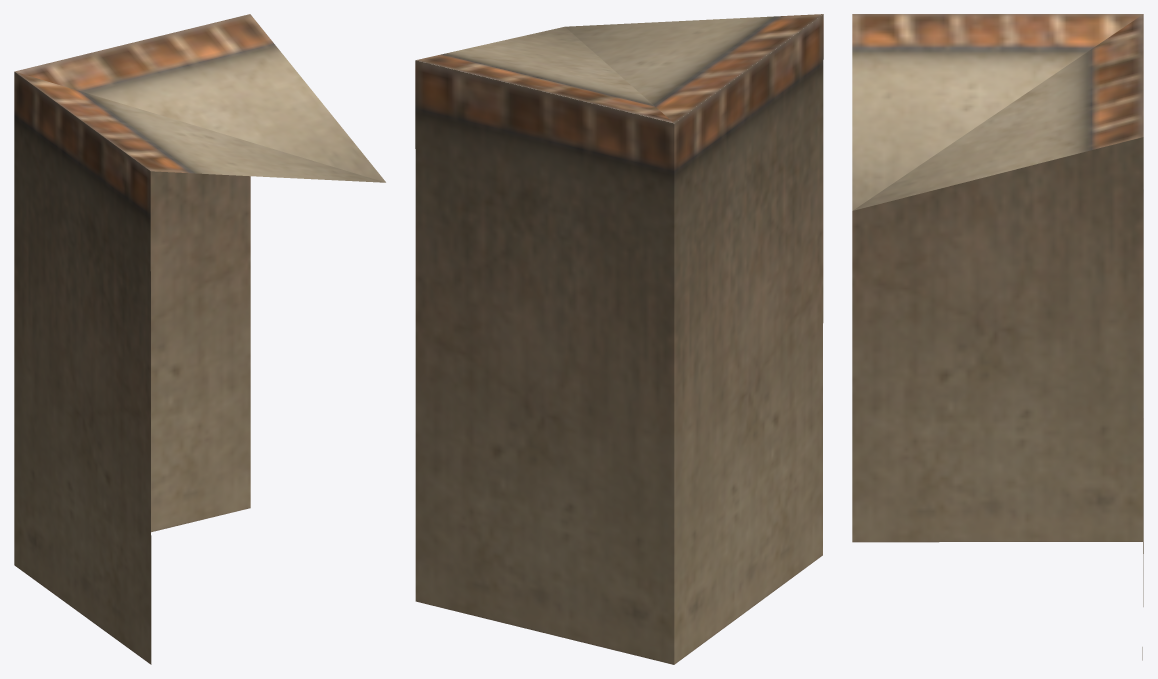
The model's file is sink_outtercorner.glb.
3 renders of one model, left to right at view 1: azimuth 30°, elevation 25°; view 2: azimuth 150°, elevation 25°; view 3: azimuth 270°, elevation 25°, orthographic. The views are drawn at different scales.
Parts seen in each view (by area): view 1: SmallSunkenTurnOut_90; view 2: SmallSunkenTurnOut_90; view 3: SmallSunkenTurnOut_90.
Part boxes in pixels (left/top/right/bottom): SmallSunkenTurnOut_90: left=14, top=14, right=385, bottom=664; SmallSunkenTurnOut_90: left=415, top=14, right=823, bottom=664; SmallSunkenTurnOut_90: left=852, top=14, right=1143, bottom=660.
Bounding box in the file's own units: 2.5 × 5 × 2.5.
Materials: 2 (2 with a texture image).
